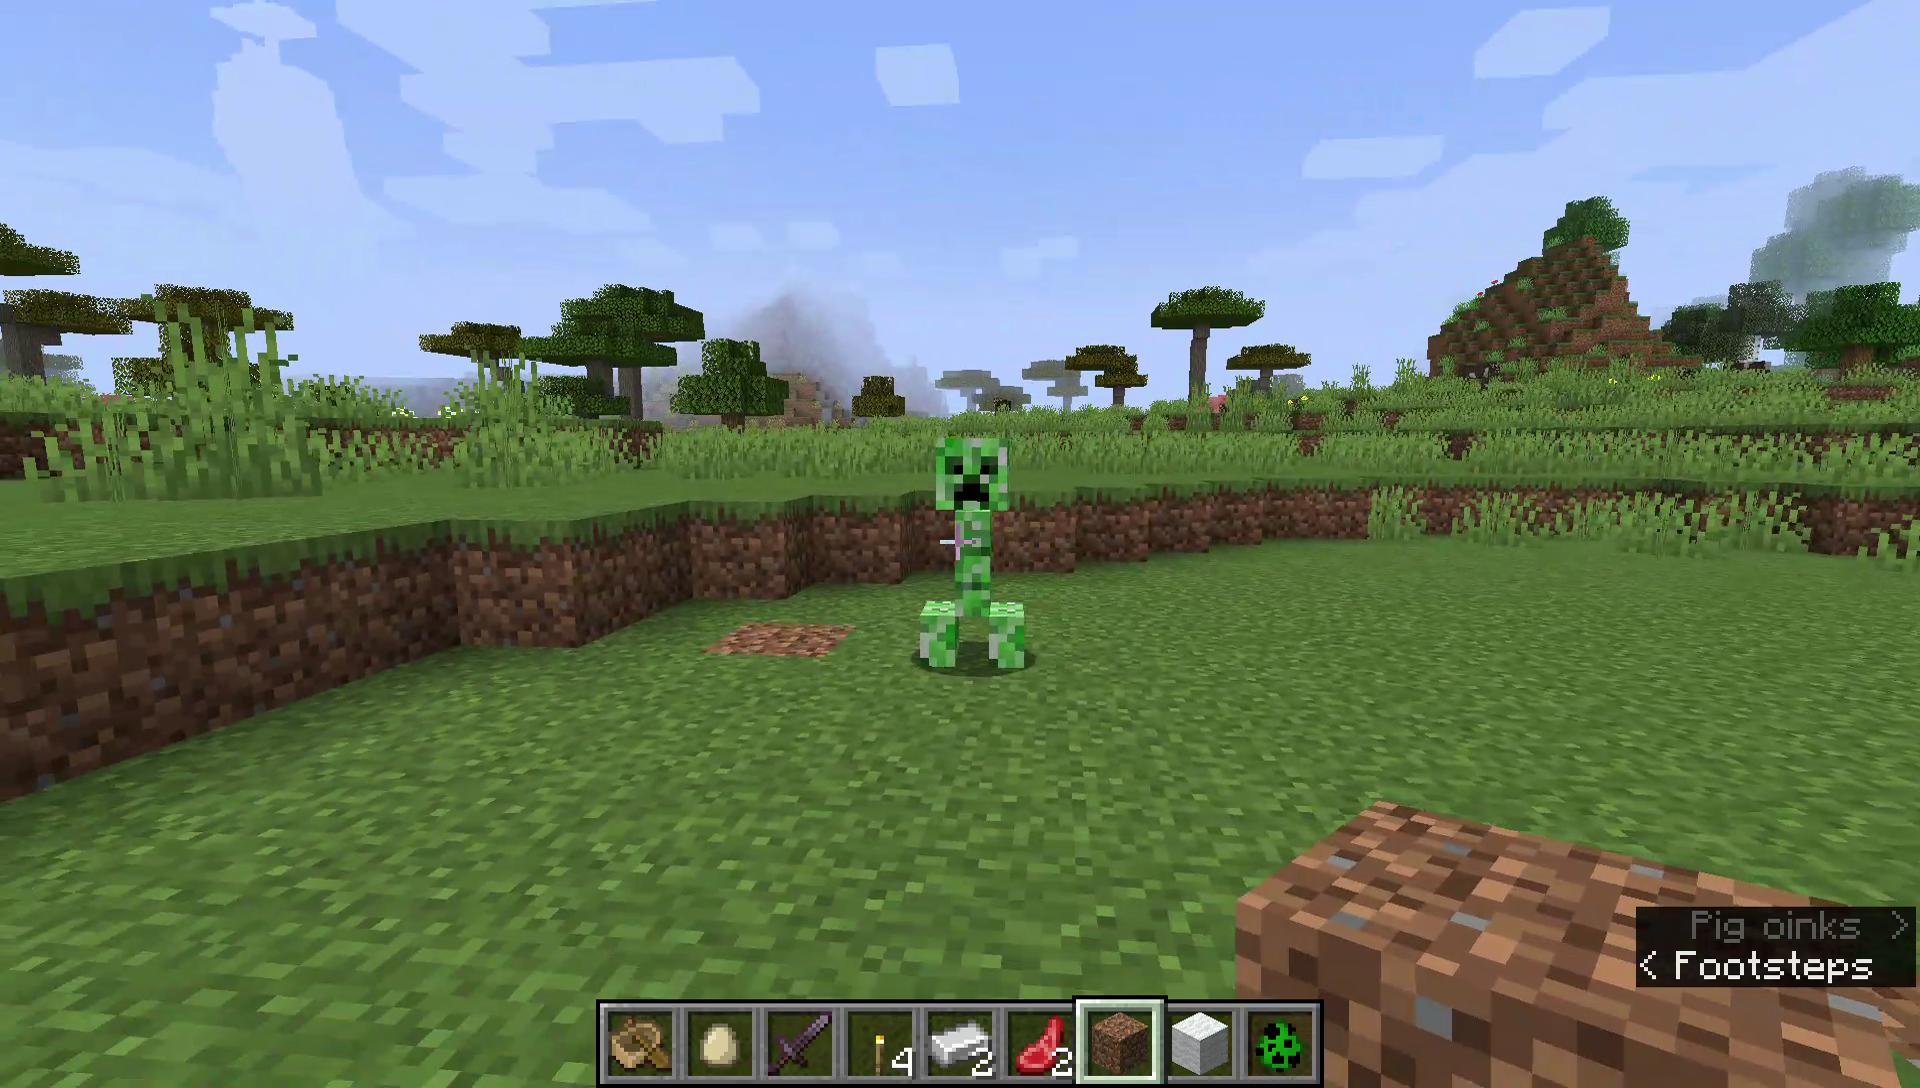creeper: (915, 426, 1033, 678)
